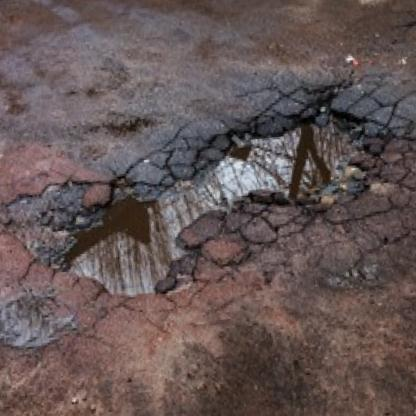pothole: (9, 98, 399, 312)
